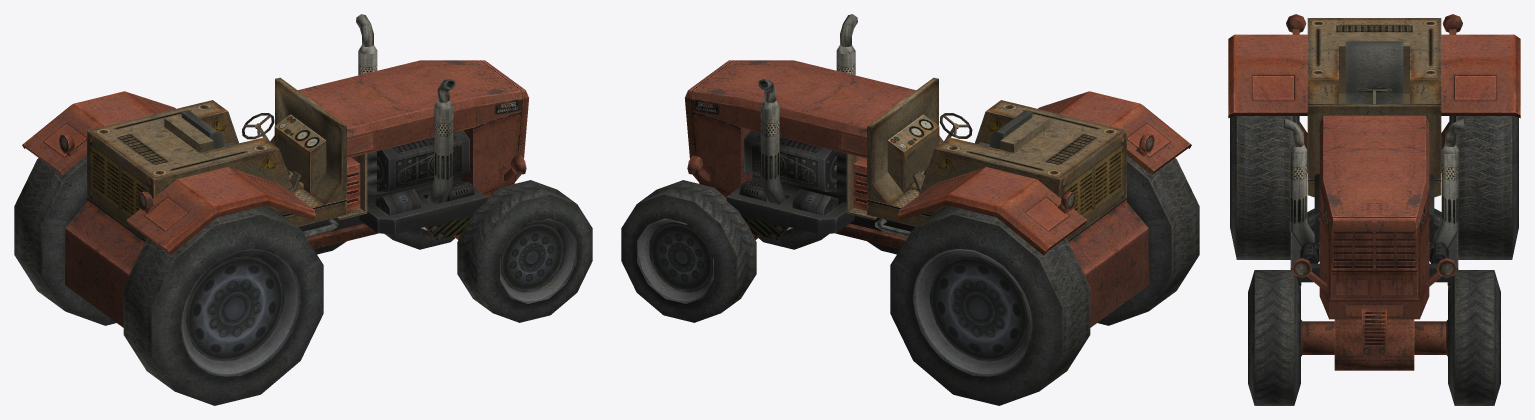
File: Prop_Tractor.glb
3 views of the same model, side by side, from view 1: azimuth 30°, elevation 25°; view 2: azimuth 150°, elevation 25°; view 3: azimuth 270°, elevation 25° (orthographic).
Visible parts, largest first — view 1: xiutz_tuolaji; view 2: xiutz_tuolaji; view 3: xiutz_tuolaji.
Part boxes in pixels (left/top/right/bottom): xiutz_tuolaji: left=14, top=14, right=592, bottom=405; xiutz_tuolaji: left=621, top=14, right=1199, bottom=405; xiutz_tuolaji: left=1228, top=14, right=1520, bottom=405.
Size of the model in its own units: 4.91 by 2.56 by 2.76.
1 material, 1 textured.
